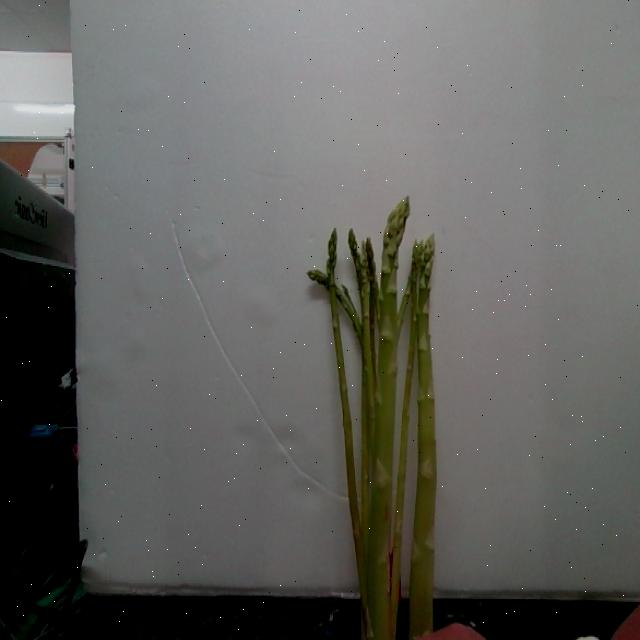aspargus: (371, 198, 410, 640), (409, 234, 437, 638)
